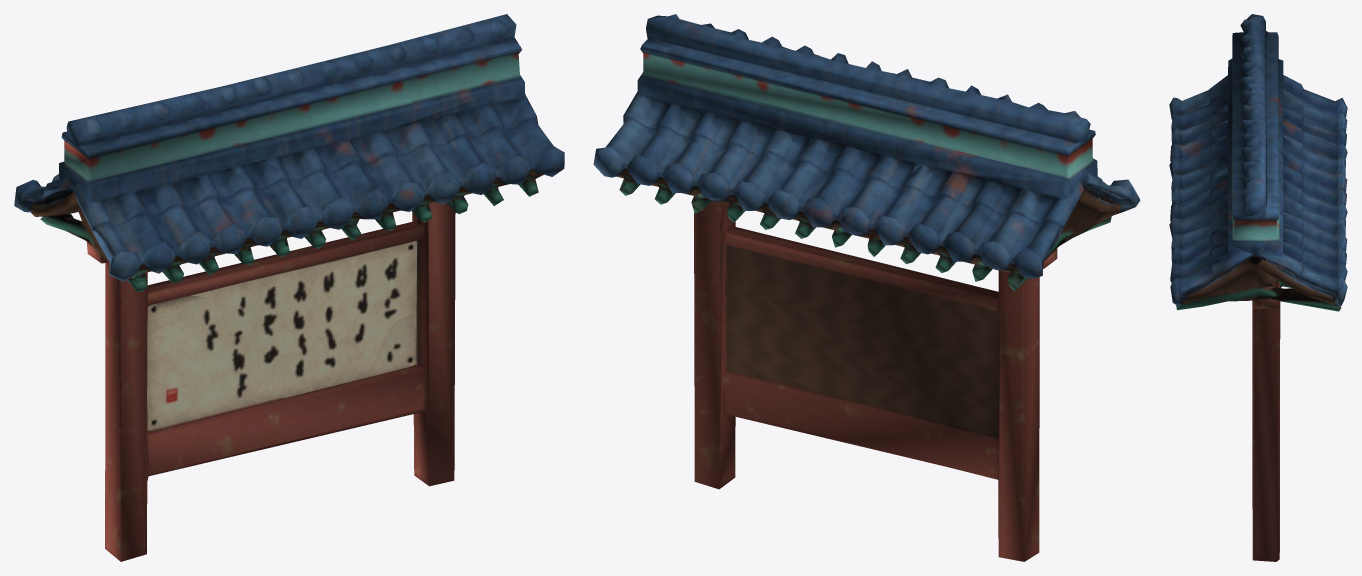
The model's file is notice-board.glb.
3 views of the same model, side by side, from view 1: azimuth 30°, elevation 25°; view 2: azimuth 150°, elevation 25°; view 3: azimuth 270°, elevation 25° (orthographic). The views are drawn at different scales.
Parts seen in each view (by area): view 1: notice_board_lod0; view 2: notice_board_lod0; view 3: notice_board_lod0.
Boxes of the visible parts, bbox=[...] form: notice_board_lod0: bbox=[14, 14, 564, 561]; notice_board_lod0: bbox=[593, 14, 1140, 561]; notice_board_lod0: bbox=[1169, 14, 1347, 561].
Bounding box in the file's own units: 2.12 × 2.01 × 0.833.
Materials: 1 (1 with a texture image).
